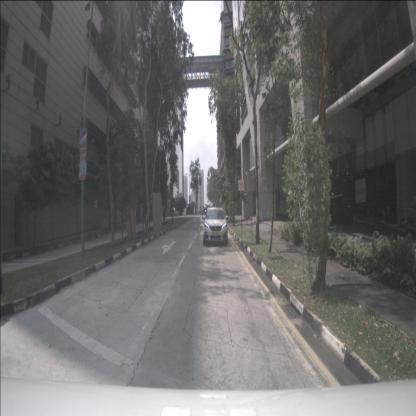vehicle-car: (203, 207, 228, 246), (171, 207, 176, 216)
